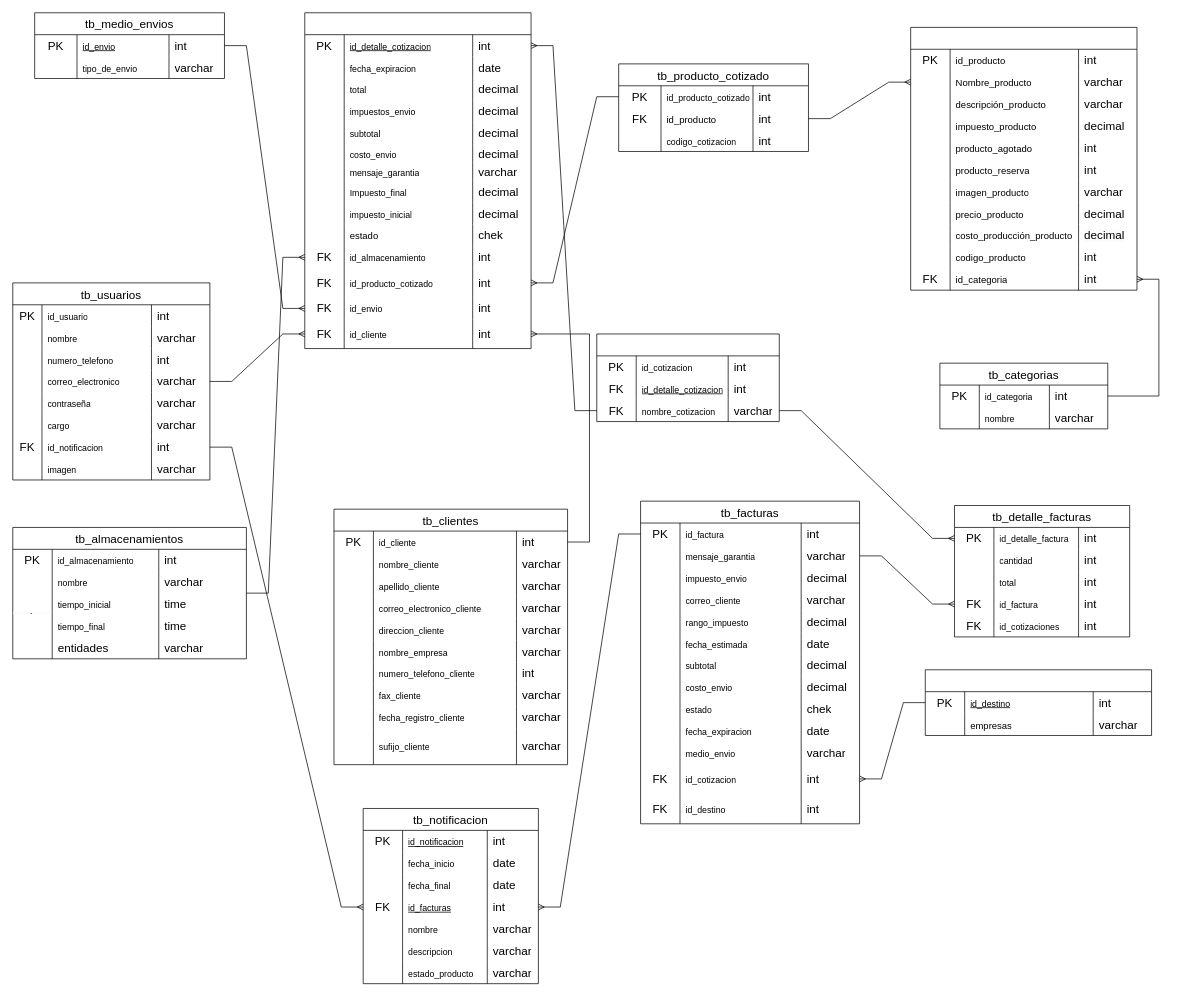
Some shapes in this 1177 by 996 pixel diagram are drawn without their labels. Here are the shapes that lost their labels. From the top down, the box of each, then its label:
(910, 27, 1137, 290): tb_productos
(304, 12, 531, 349): tb_detalle_cotizaciones
(596, 333, 779, 422): tb_cotizacion
(925, 669, 1152, 735): tb_destino_productos
